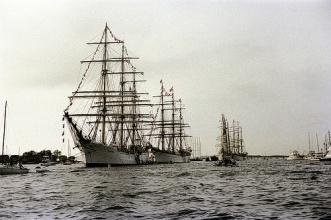fanchuan: (68, 29, 192, 167), (214, 111, 242, 165)
